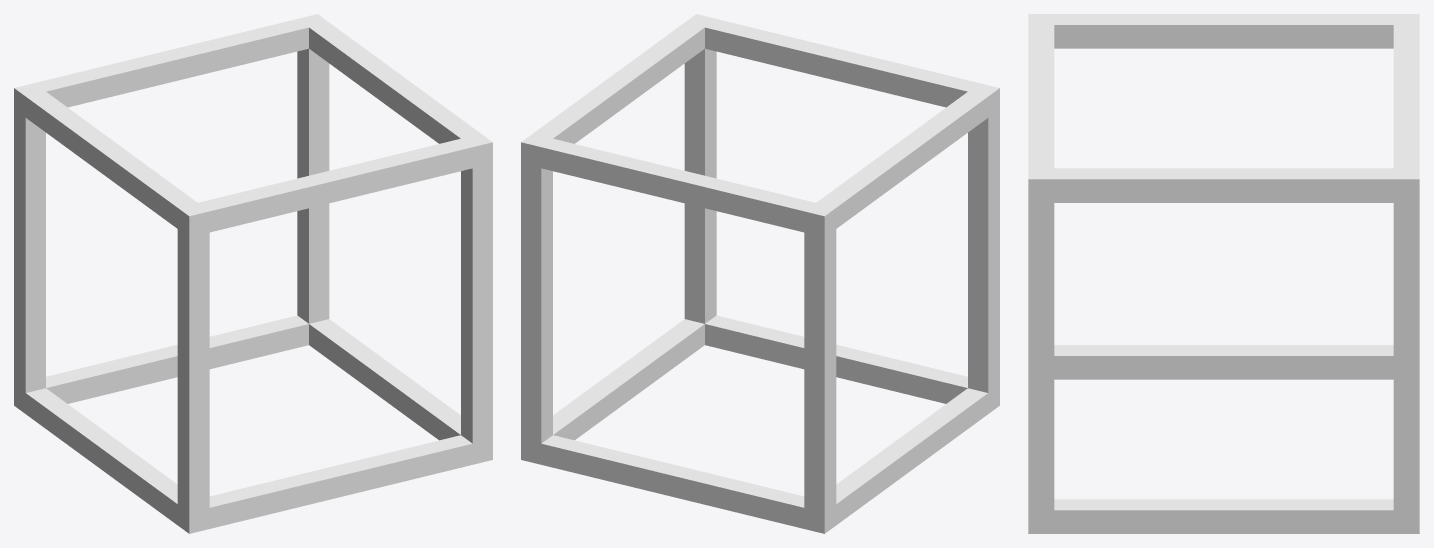
The model's file is 15x15_outline.obj.
3 views of the same model, side by side, from view 1: azimuth 30°, elevation 25°; view 2: azimuth 150°, elevation 25°; view 3: azimuth 270°, elevation 25° (orthographic). The views are drawn at different scales.
Size of the model in its own units: 1.5 by 1.5 by 1.5.
Materials: 1 (1 with a texture image).
